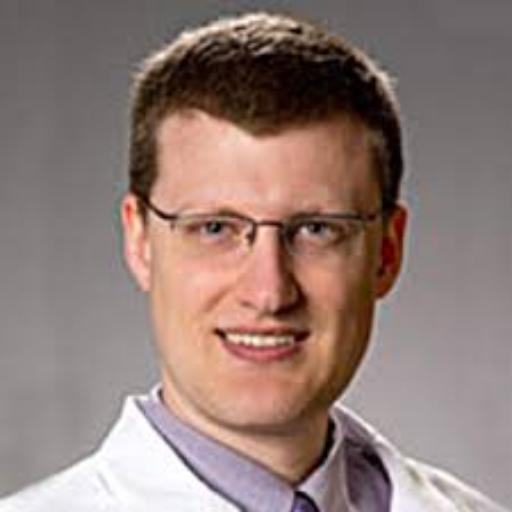left_eye: (293, 221, 355, 246)
left_lip_corner: (301, 324, 319, 347)
right_eye: (183, 219, 247, 245)
right_lip_corner: (206, 322, 228, 346)
